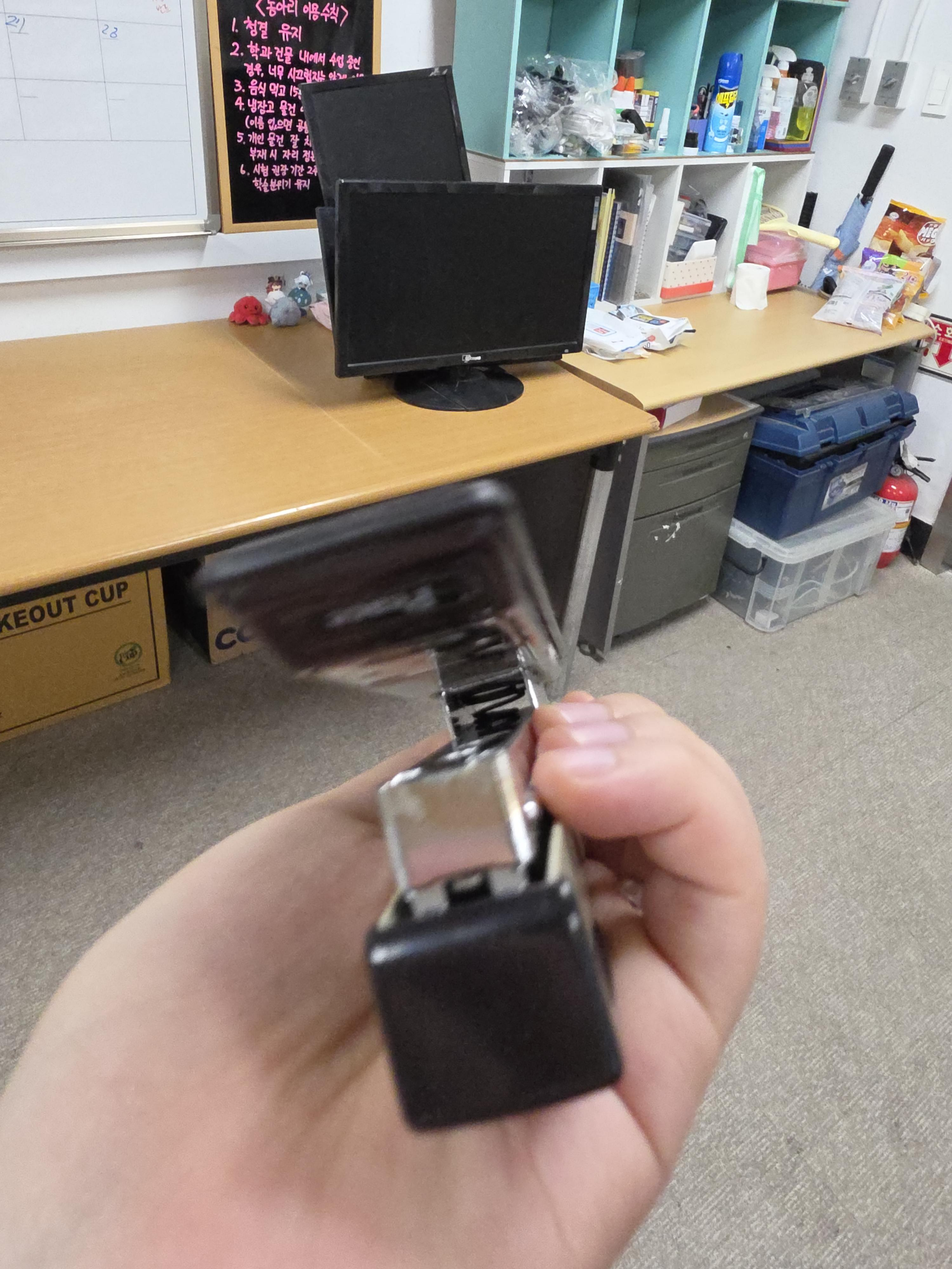stapler: (186, 477, 623, 1134)
tissue: (659, 239, 718, 300), (732, 262, 771, 311)
